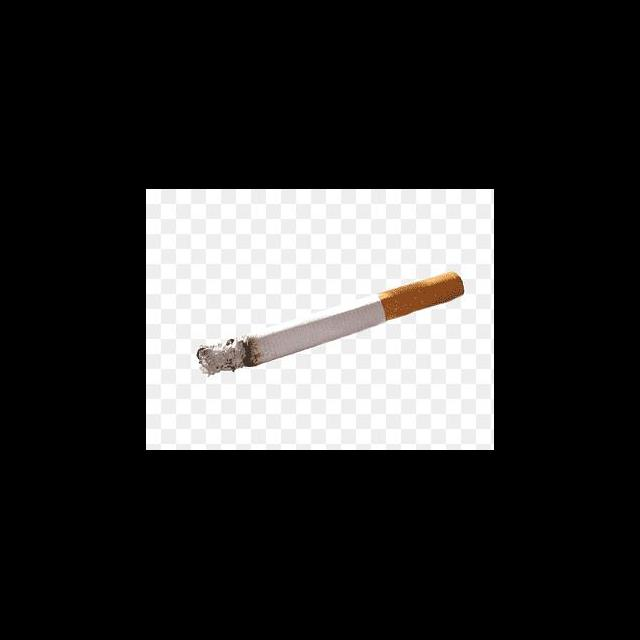Cigarette Butt: (195, 270, 466, 379)
